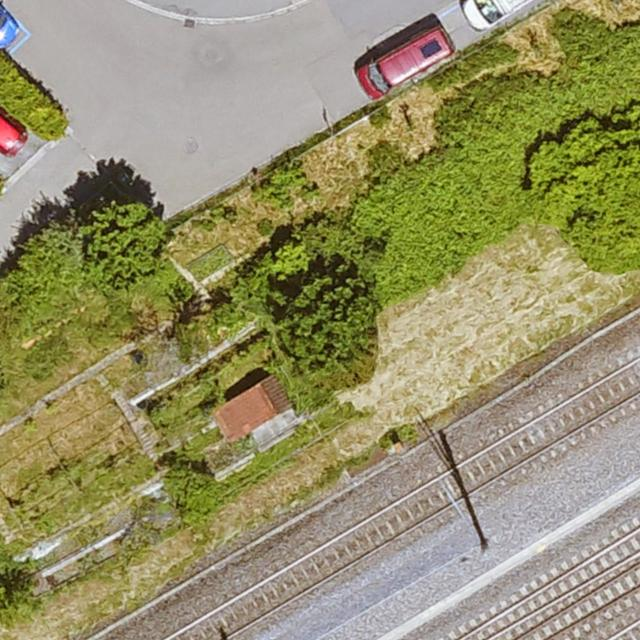tree: (530, 107, 640, 266), (272, 275, 379, 387), (79, 201, 168, 293), (8, 229, 86, 318)
